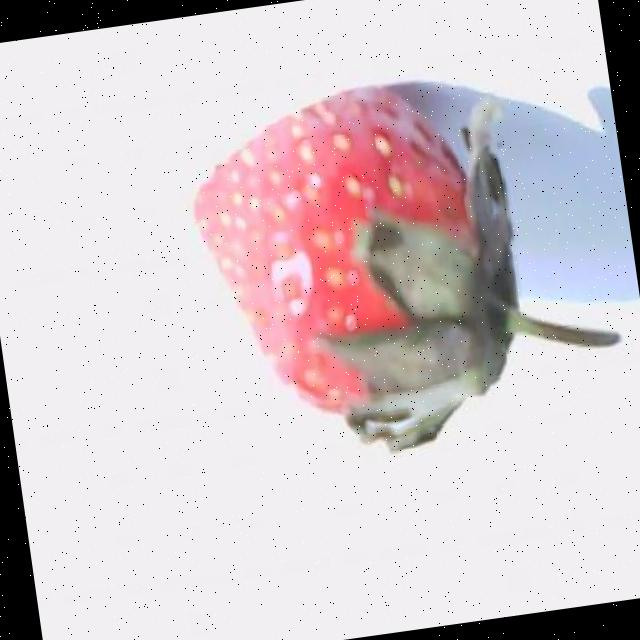strawberry: (195, 88, 617, 451)
